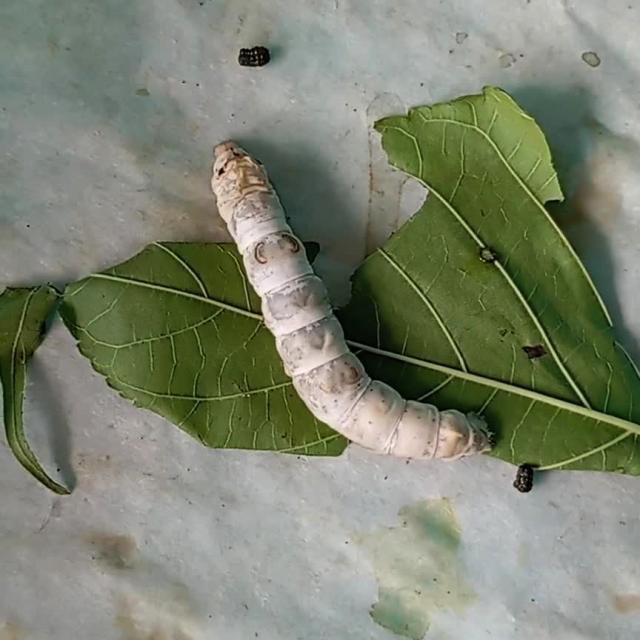Grasserie: (193, 131, 503, 488)
